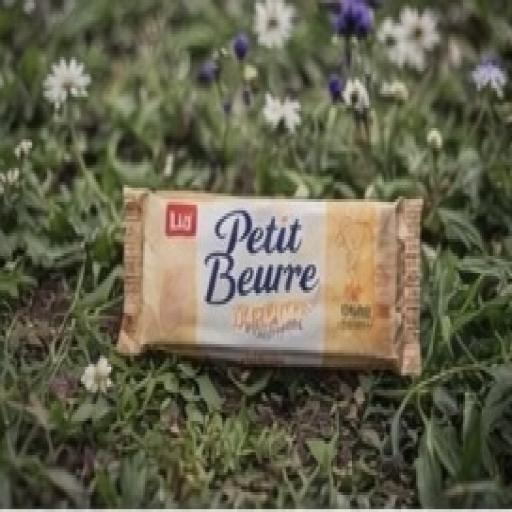petit_beurre: (84, 128, 458, 433)
